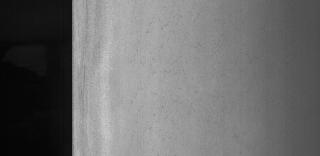silk spot: (136, 14, 212, 134)
